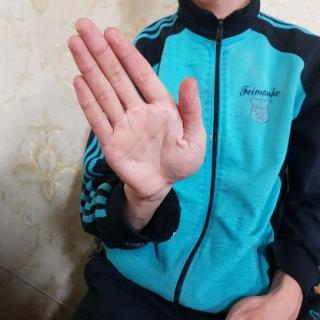SEEN: (62, 14, 212, 198)
